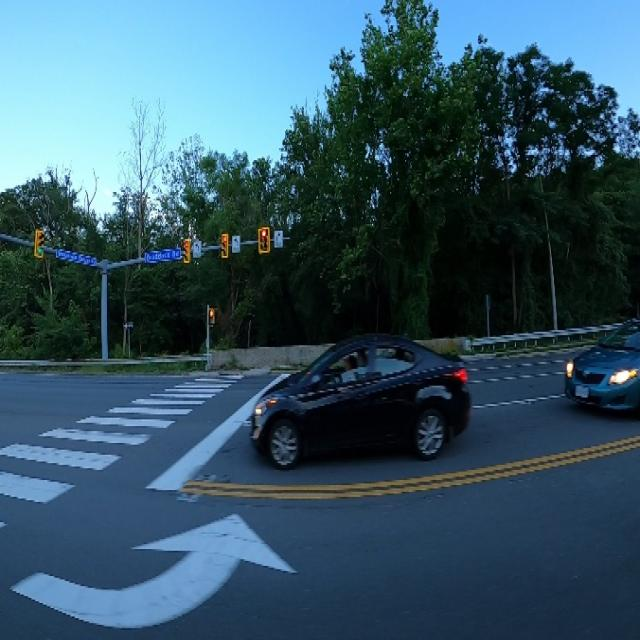cars: (239, 328, 489, 477), (558, 311, 640, 421)
